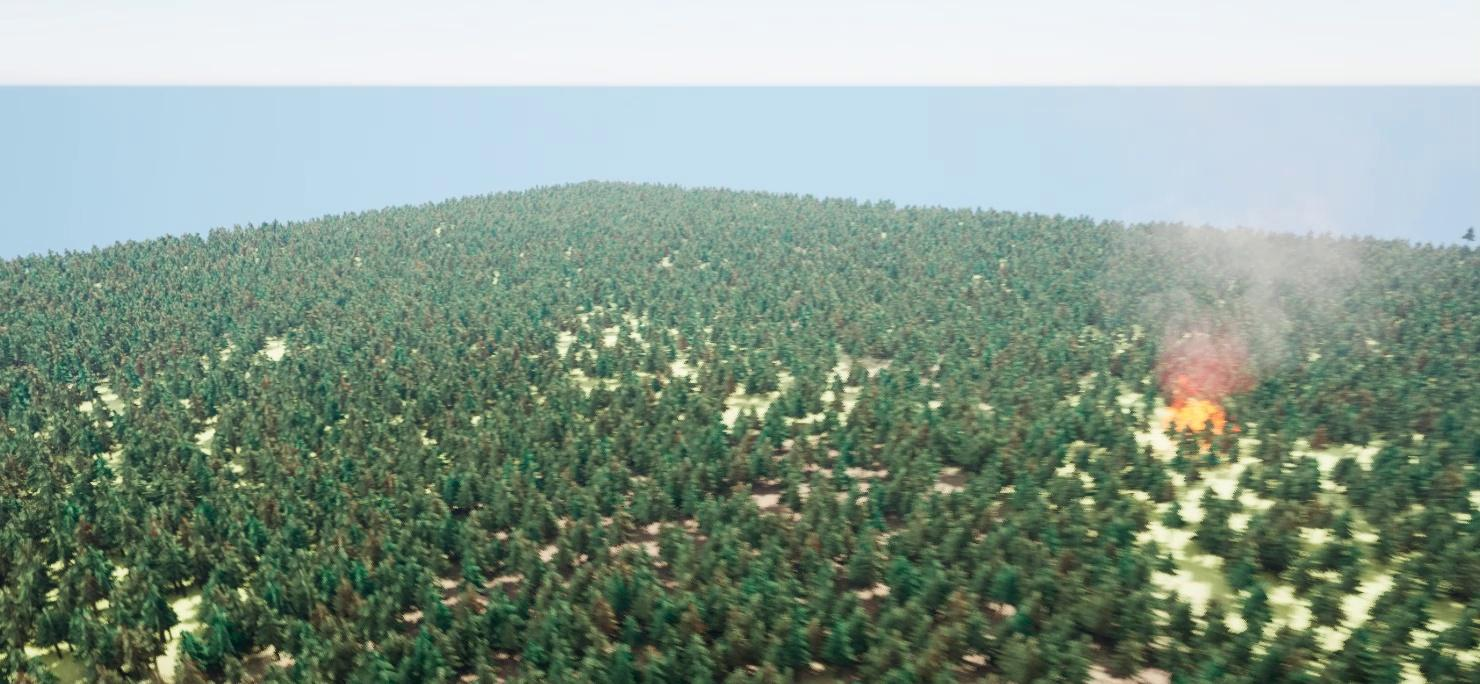fire: (1162, 388, 1239, 438)
smoke: (1126, 198, 1382, 392)
